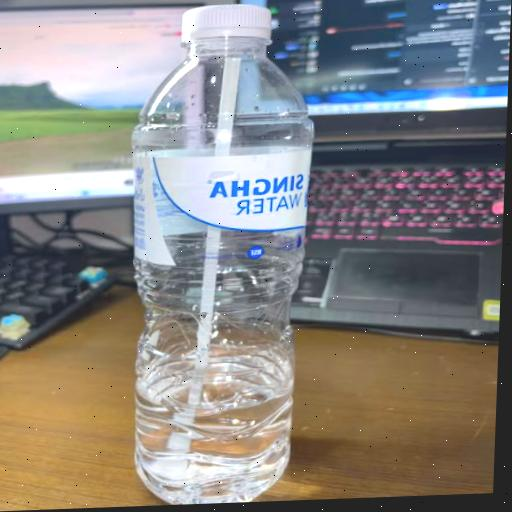ba: (107, 0, 331, 507)
